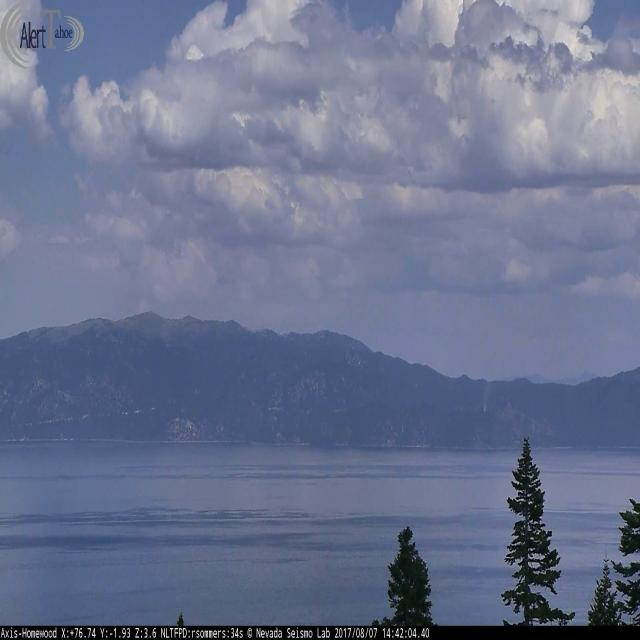smoke: (484, 387, 488, 414)
